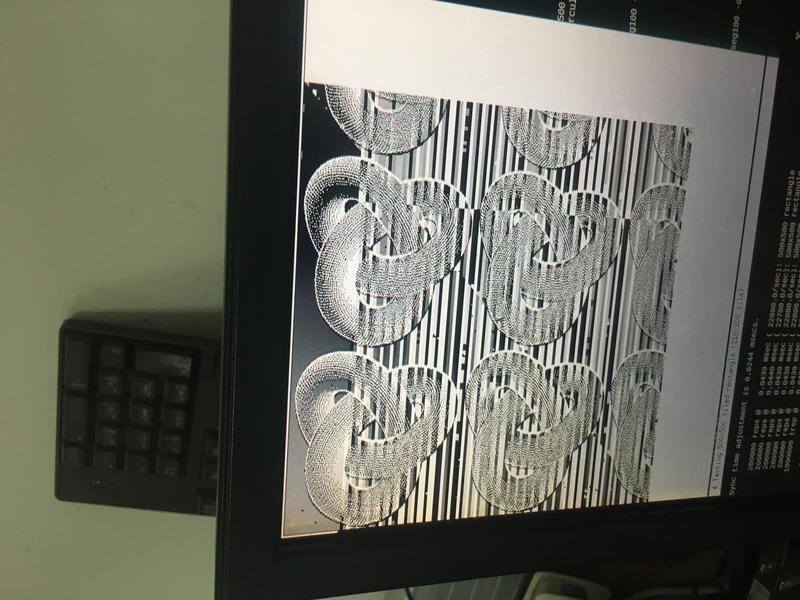xrandr_pass: (277, 1, 784, 544)
